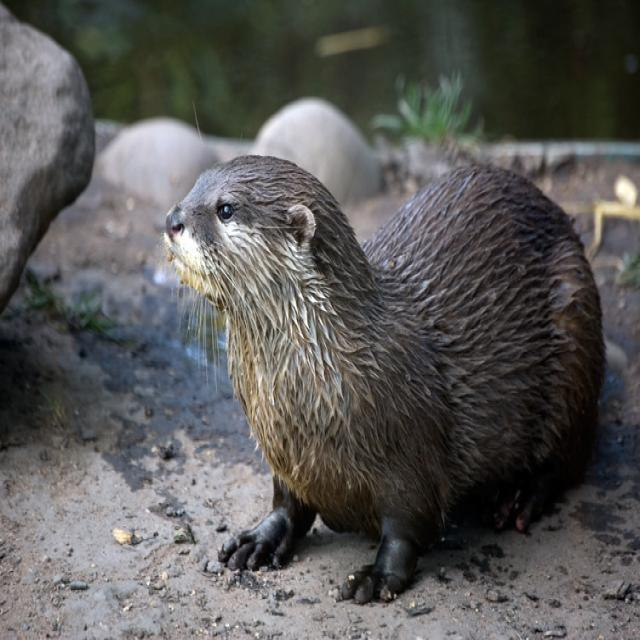otter: (166, 155, 603, 603)
